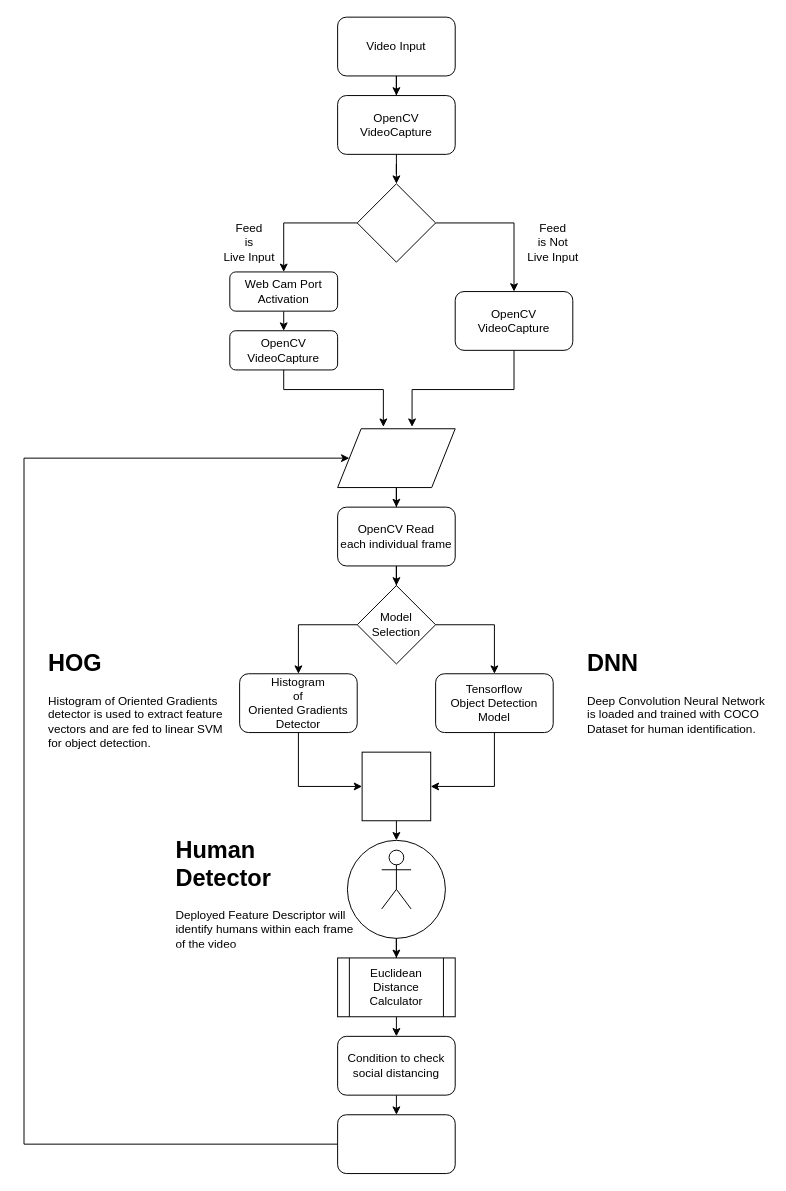
Some shapes in this 786 by 1191 pixel diagram are drawn without their labels. Each missing label, with the box of its shape:
Actor: (381, 849, 411, 909)
Display violations output back on the live feed frame: (337, 1114, 455, 1174)
If Live Stream: (356, 183, 436, 262)
Selected Model: (361, 751, 431, 821)
While Capturing (End of Frames not reached): (337, 428, 455, 488)
